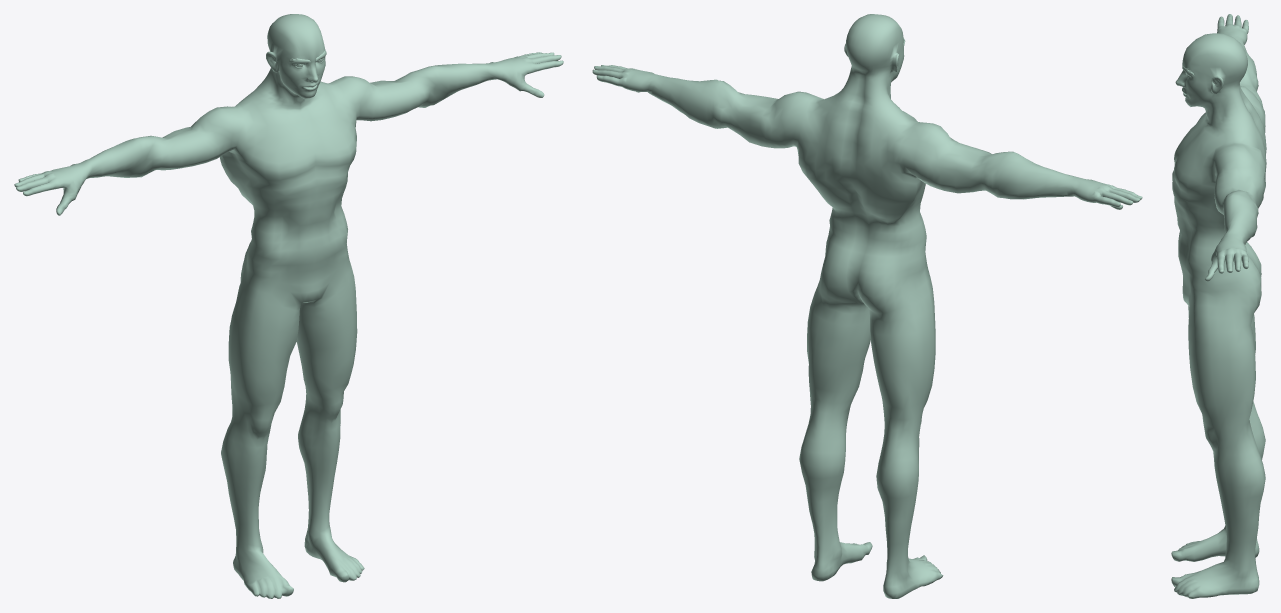
File: EclyriaHero_static.glb
The picture shows the model from 3 angles, left to right: view 1: azimuth 30°, elevation 25°; view 2: azimuth 150°, elevation 25°; view 3: azimuth 270°, elevation 25°; orthographic projection. The views are drawn at different scales.
Parts seen in each view (by area): view 1: SuperHero_Male; view 2: SuperHero_Male; view 3: SuperHero_Male.
Part boxes in pixels (x1=…): SuperHero_Male: x1=14, y1=14, x2=563, y2=598; SuperHero_Male: x1=592, y1=14, x2=1142, y2=598; SuperHero_Male: x1=1171, y1=14, x2=1266, y2=598.
Size of the model in its own units: 1.86 by 1.82 by 0.2915.
